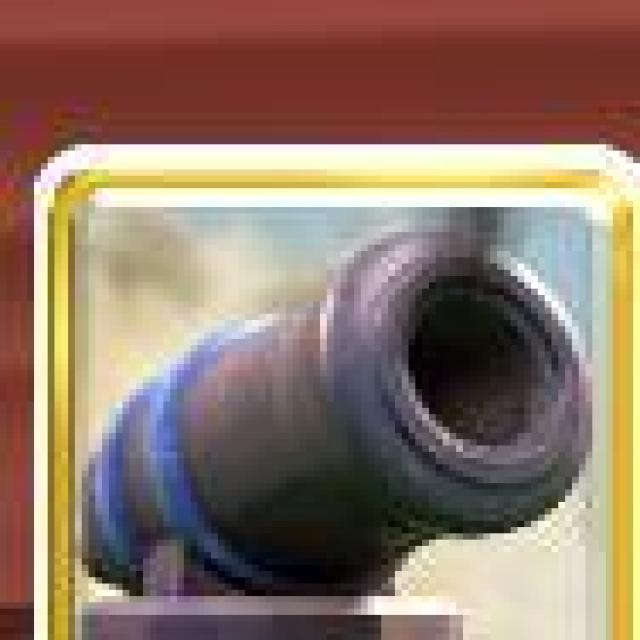Cannon: (37, 143, 638, 640)
